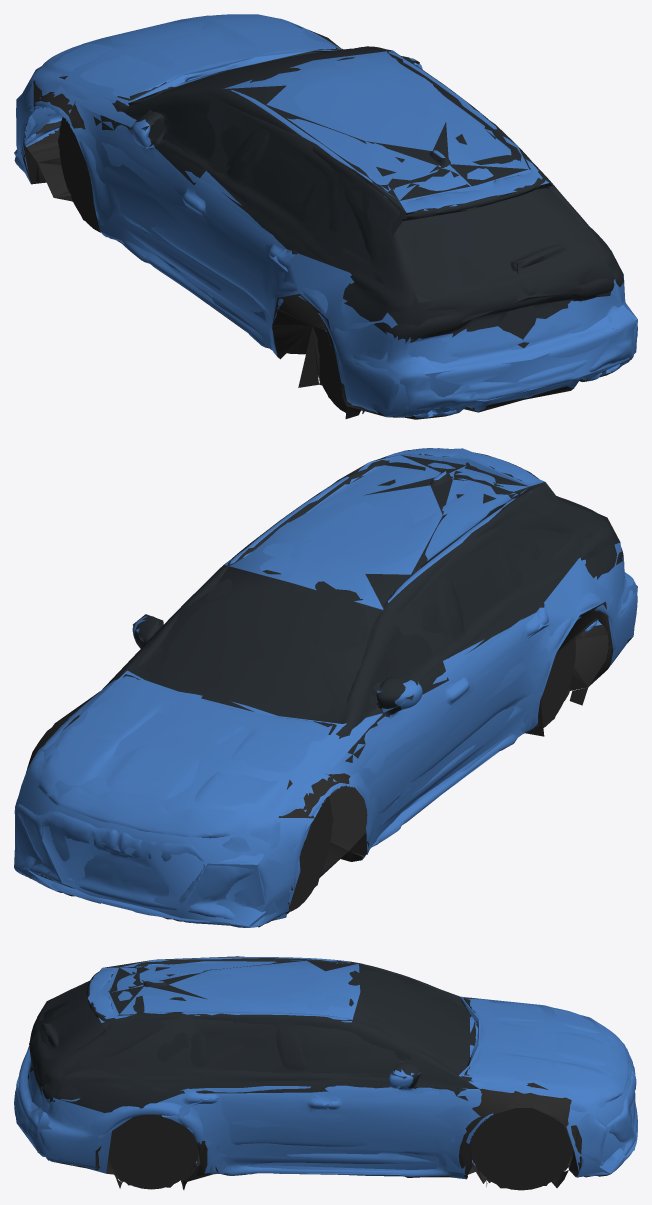
File: audi-rs.glb
3 views of the same model, one above another, from view 1: azimuth 30°, elevation 25°; view 2: azimuth 150°, elevation 25°; view 3: azimuth 270°, elevation 25° (orthographic). The views are drawn at different scales.
Visible parts, largest first — view 1: body, far; view 2: body, far; view 3: body, far.
Part boxes in pixels (x1,y1,x2,y2): body: (14,14,637,419); far: (14,14,637,416); body: (14,448,637,927); far: (14,448,637,926); body: (14,957,637,1190); far: (14,956,636,1189).
Size of the model in its own units: 1.98 by 1.53 by 5.06.
